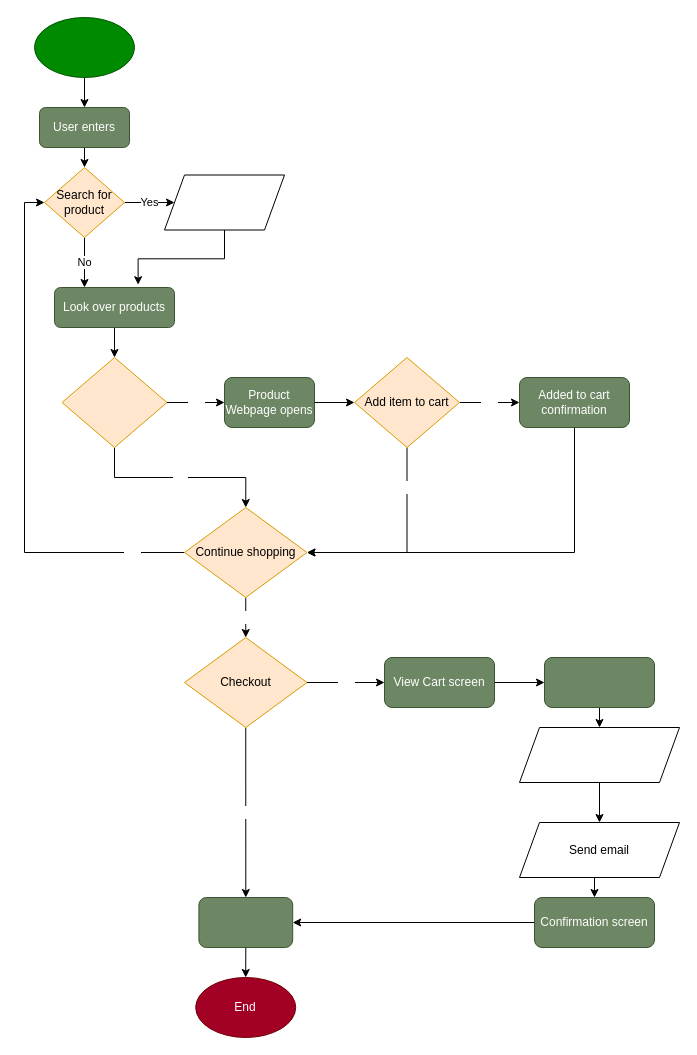
Image size: 697x1055. Some labels were removed from this diagram. Each missing label, with the centre of its shape:
"Payment information" goes at point 599,754.
"Search query" goes at point 224,202.
"Start" goes at point 84,47.
"User exits site" goes at point 245,922.
"View Payment screen" goes at point 599,682.
"View specific product" goes at point 114,402.
